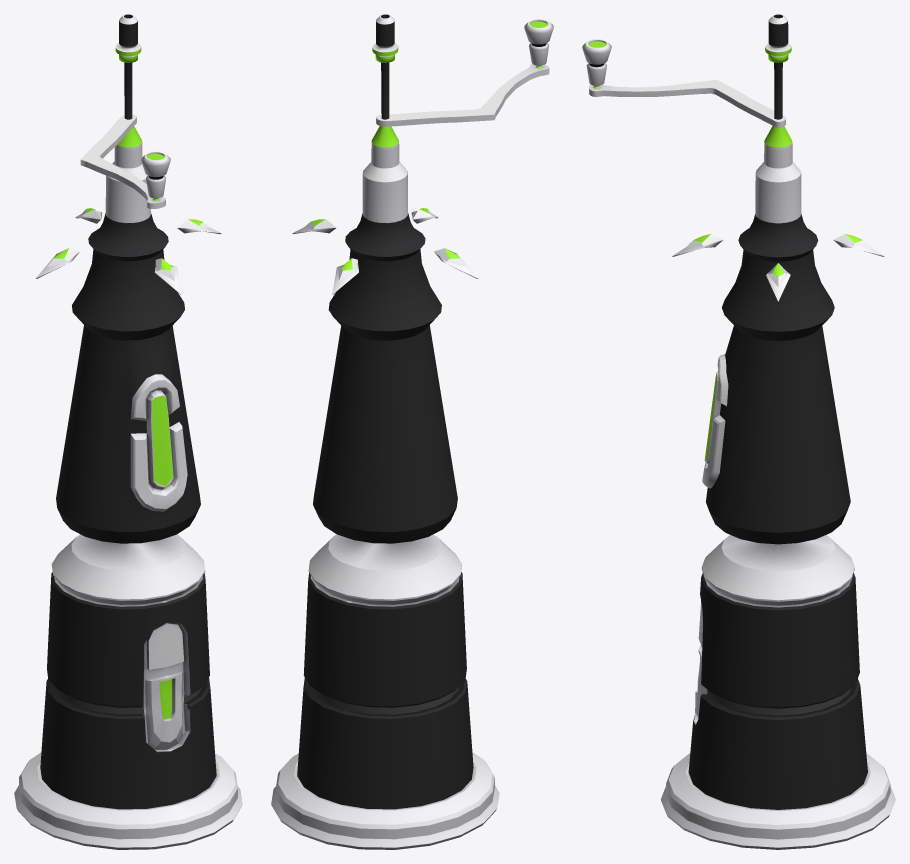
Rendered from Coffee Machine.fbx.
3 views of the same model, side by side, from view 1: azimuth 30°, elevation 25°; view 2: azimuth 150°, elevation 25°; view 3: azimuth 270°, elevation 25° (orthographic).
Parts seen in each view (by area): view 1: polySurface24, pCube2; view 2: polySurface24, pCube2; view 3: polySurface24, pCube2.
Part boxes in pixels (x1=…): polySurface24: x1=14, y1=14, x2=242, y2=849; pCube2: x1=80, y1=114, x2=170, y2=208; polySurface24: x1=271, y1=14, x2=499, y2=849; pCube2: x1=376, y1=19, x2=553, y2=126; polySurface24: x1=660, y1=14, x2=895, y2=849; pCube2: x1=582, y1=39, x2=785, y2=127.
Size of the model in its own units: 19.17 by 73.01 by 26.4.
2 materials, 2 textured.
